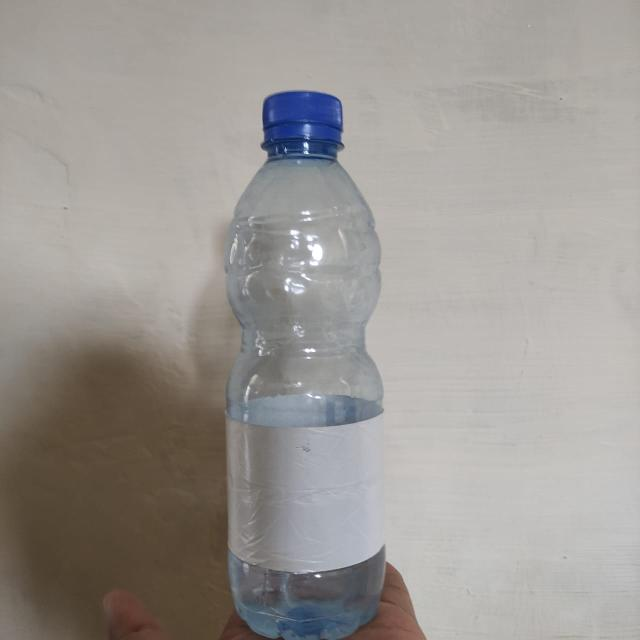bottle: (233, 91, 384, 640)
cap: (255, 92, 345, 153)
label: (233, 422, 387, 566)
